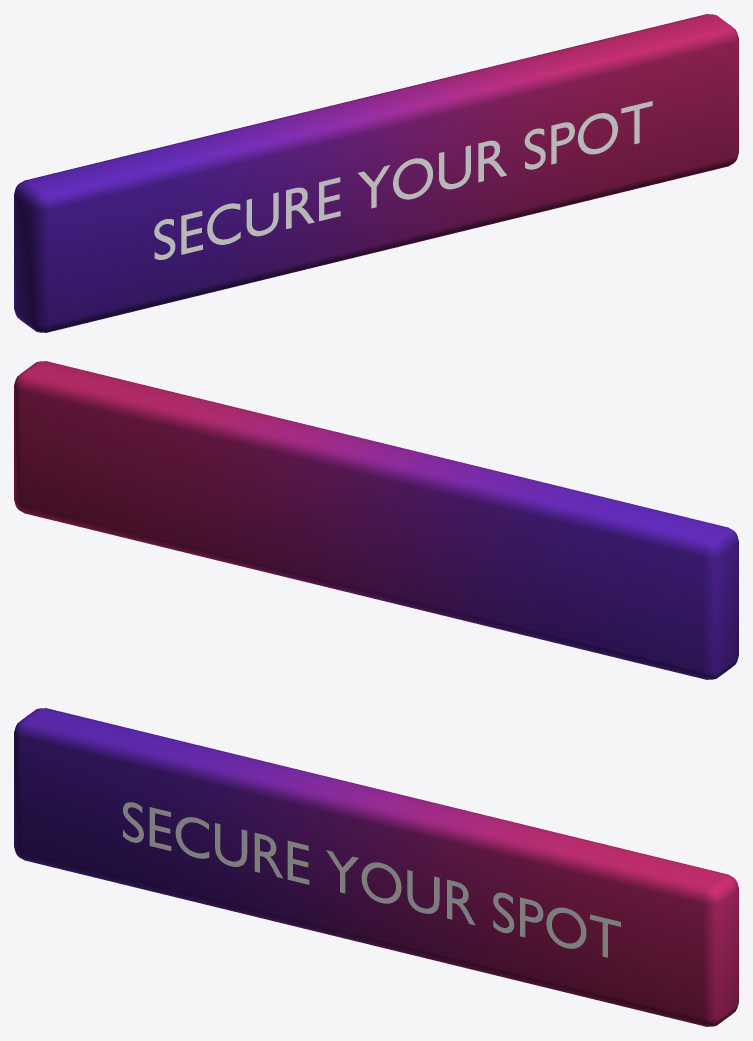
Rendered from hero_button.glb.
3 renders of one model, top to bottom at view 1: azimuth 30°, elevation 25°; view 2: azimuth 150°, elevation 25°; view 3: azimuth 330°, elevation 25°, orthographic.
Visible parts, largest first — view 1: button, button_text; view 2: button; view 3: button, button_text.
Boxes of the visible parts, <box> form: button: <box>14,14,738,332</box>; button_text: <box>154,101,652,259</box>; button: <box>14,361,738,679</box>; button: <box>14,708,738,1026</box>; button_text: <box>123,802,620,957</box>.
Size of the model in its own units: 0.285 by 0.054 by 0.021.
2 materials, 1 textured.
